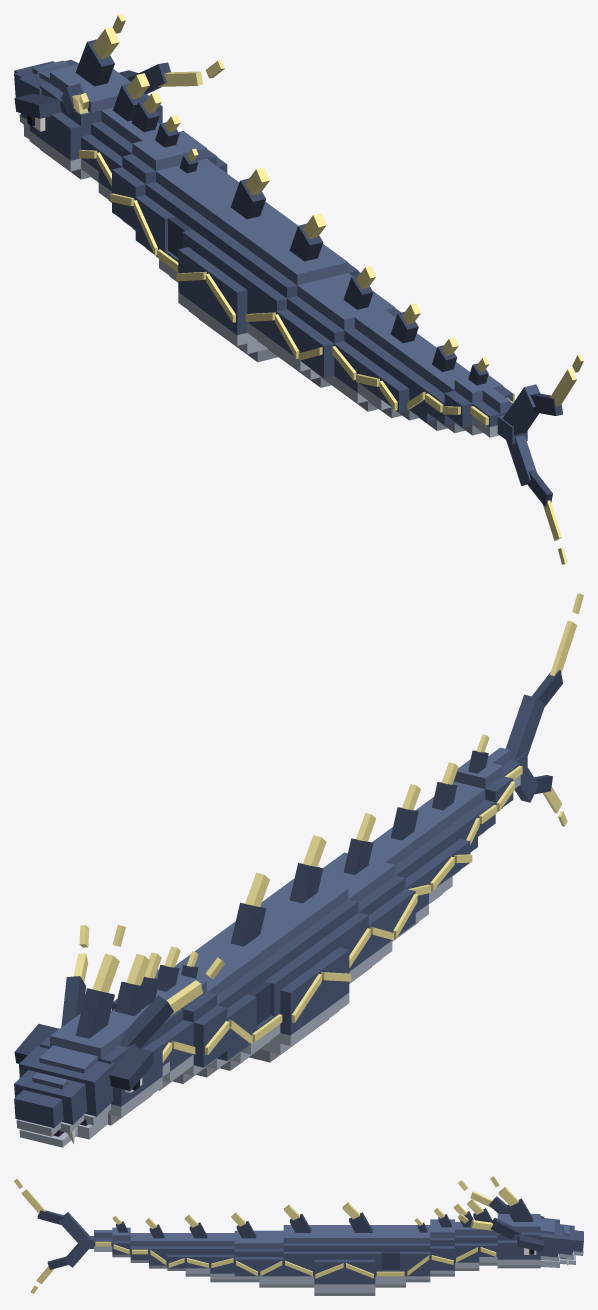
The model's file is StormSerpent.obj.
3 renders of one model, top to bottom at view 1: azimuth 30°, elevation 25°; view 2: azimuth 150°, elevation 25°; view 3: azimuth 270°, elevation 25°, orthographic. The views are drawn at different scales.
Visible parts, largest first — view 1: Head, S8, S6, S7, S3, S10, Tail, S5, S4, S9, S12, S11 (+7 smaller); view 2: Head, S6, S8, S7, S5, S3, Tail, S10, S12, S4, S9, S2 (+6 smaller); view 3: Head, S6, S8, S7, S5, Tail, S10, S3, S4, S9, S12, S2 (+8 smaller).
Part boxes in pixels (left/top/right/bottom): Head: left=14, top=27, right=202, bottom=179; S8: left=245, top=213, right=360, bottom=370; S6: left=176, top=167, right=288, bottom=340; S7: left=206, top=219, right=297, bottom=362; S3: left=110, top=115, right=227, bottom=230; S10: left=298, top=265, right=417, bottom=393; Tail: left=497, top=368, right=577, bottom=540; S5: left=157, top=176, right=239, bottom=282; S4: left=133, top=148, right=229, bottom=256; S9: left=275, top=273, right=352, bottom=387; S12: left=356, top=303, right=431, bottom=418; S11: left=332, top=310, right=395, bottom=411; Head: left=14, top=953, right=202, bottom=1147; S6: left=209, top=872, right=321, bottom=1062; S8: left=268, top=835, right=370, bottom=982; S7: left=260, top=898, right=351, bottom=1040; S5: left=180, top=941, right=282, bottom=1070; S3: left=112, top=946, right=229, bottom=1083; Tail: left=505, top=620, right=577, bottom=813; S10: left=323, top=813, right=417, bottom=941; S12: left=378, top=784, right=454, bottom=903; S4: left=175, top=951, right=252, bottom=1077; S9: left=320, top=870, right=393, bottom=983; S2: left=141, top=952, right=195, bottom=1090; Head: left=470, top=1187, right=583, bottom=1268; S6: left=342, top=1202, right=375, bottom=1295; S8: left=283, top=1204, right=314, bottom=1287; S7: left=314, top=1225, right=344, bottom=1295; S5: left=375, top=1225, right=405, bottom=1287; Tail: left=21, top=1189, right=93, bottom=1284; S10: left=231, top=1212, right=259, bottom=1282; S3: left=430, top=1208, right=454, bottom=1276; S4: left=406, top=1218, right=430, bottom=1282; S9: left=259, top=1230, right=283, bottom=1287; S12: left=184, top=1214, right=210, bottom=1276; S2: left=453, top=1203, right=479, bottom=1270.
Size of the model in its own units: 6.24 by 9.51 by 41.94.
1 material, 1 textured.
